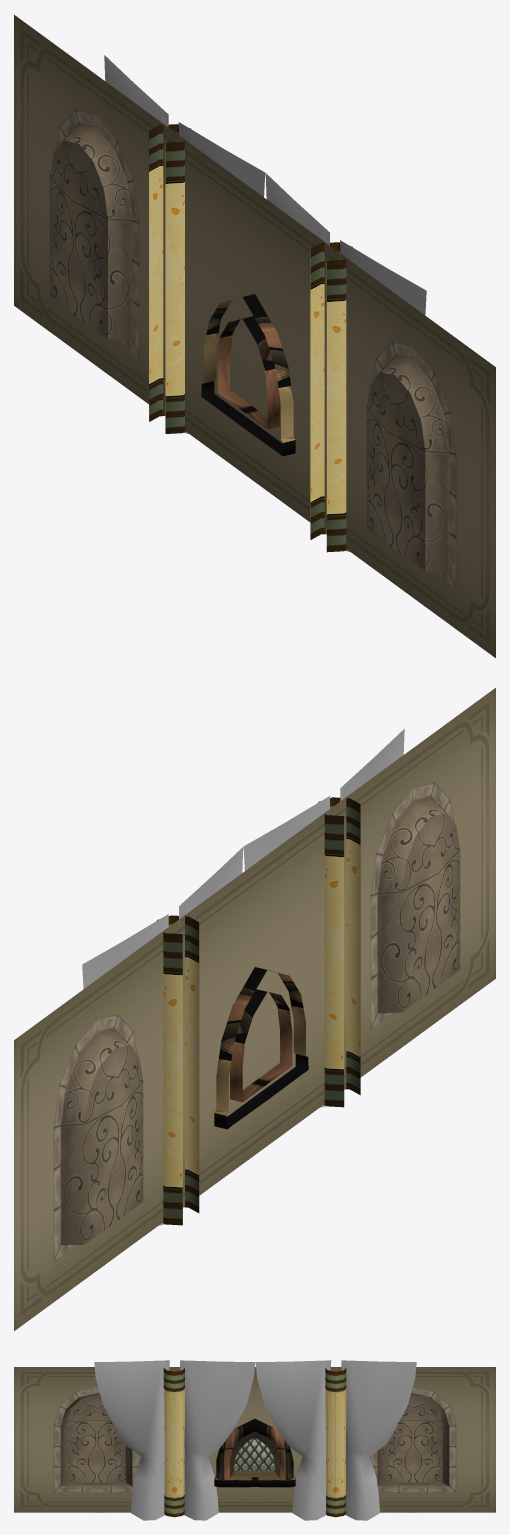
File: IceMaze_Wall01.fbx
3 renders of one model, top to bottom at view 1: azimuth 30°, elevation 25°; view 2: azimuth 150°, elevation 25°; view 3: azimuth 270°, elevation 25°, orthographic. The views are drawn at different scales.
Parts seen in each view (by area): view 1: WallMesh, LightPillars1 (×2), Window, DrapeR (×2), DrapeR1 (×2); view 2: WallMesh, LightPillars1 (×2), Window, DrapeR1 (×2), DrapeR (×2); view 3: WallMesh, DrapeR1 (×2), DrapeR (×2), LightPillars1 (×2), Window.
Part boxes in pixels (x1,y1,x2,y2): WallMesh: [14, 15, 495, 657]; LightPillars1 (×2): [149, 124, 352, 552]; Window: [201, 294, 295, 456]; DrapeR (×2): [178, 122, 426, 551]; DrapeR1 (×2): [104, 55, 329, 245]; WallMesh: [14, 688, 495, 1330]; LightPillars1 (×2): [157, 797, 360, 1225]; Window: [214, 967, 308, 1129]; DrapeR1 (×2): [82, 796, 330, 1225]; DrapeR (×2): [179, 729, 404, 925]; WallMesh: [14, 1367, 495, 1512]; DrapeR1 (×2): [180, 1360, 416, 1520]; DrapeR (×2): [94, 1360, 331, 1520]; LightPillars1 (×2): [163, 1368, 346, 1517]; Window: [214, 1418, 295, 1487].
Bounding box in the file's own units: 0.9573 × 6.45 × 18.
